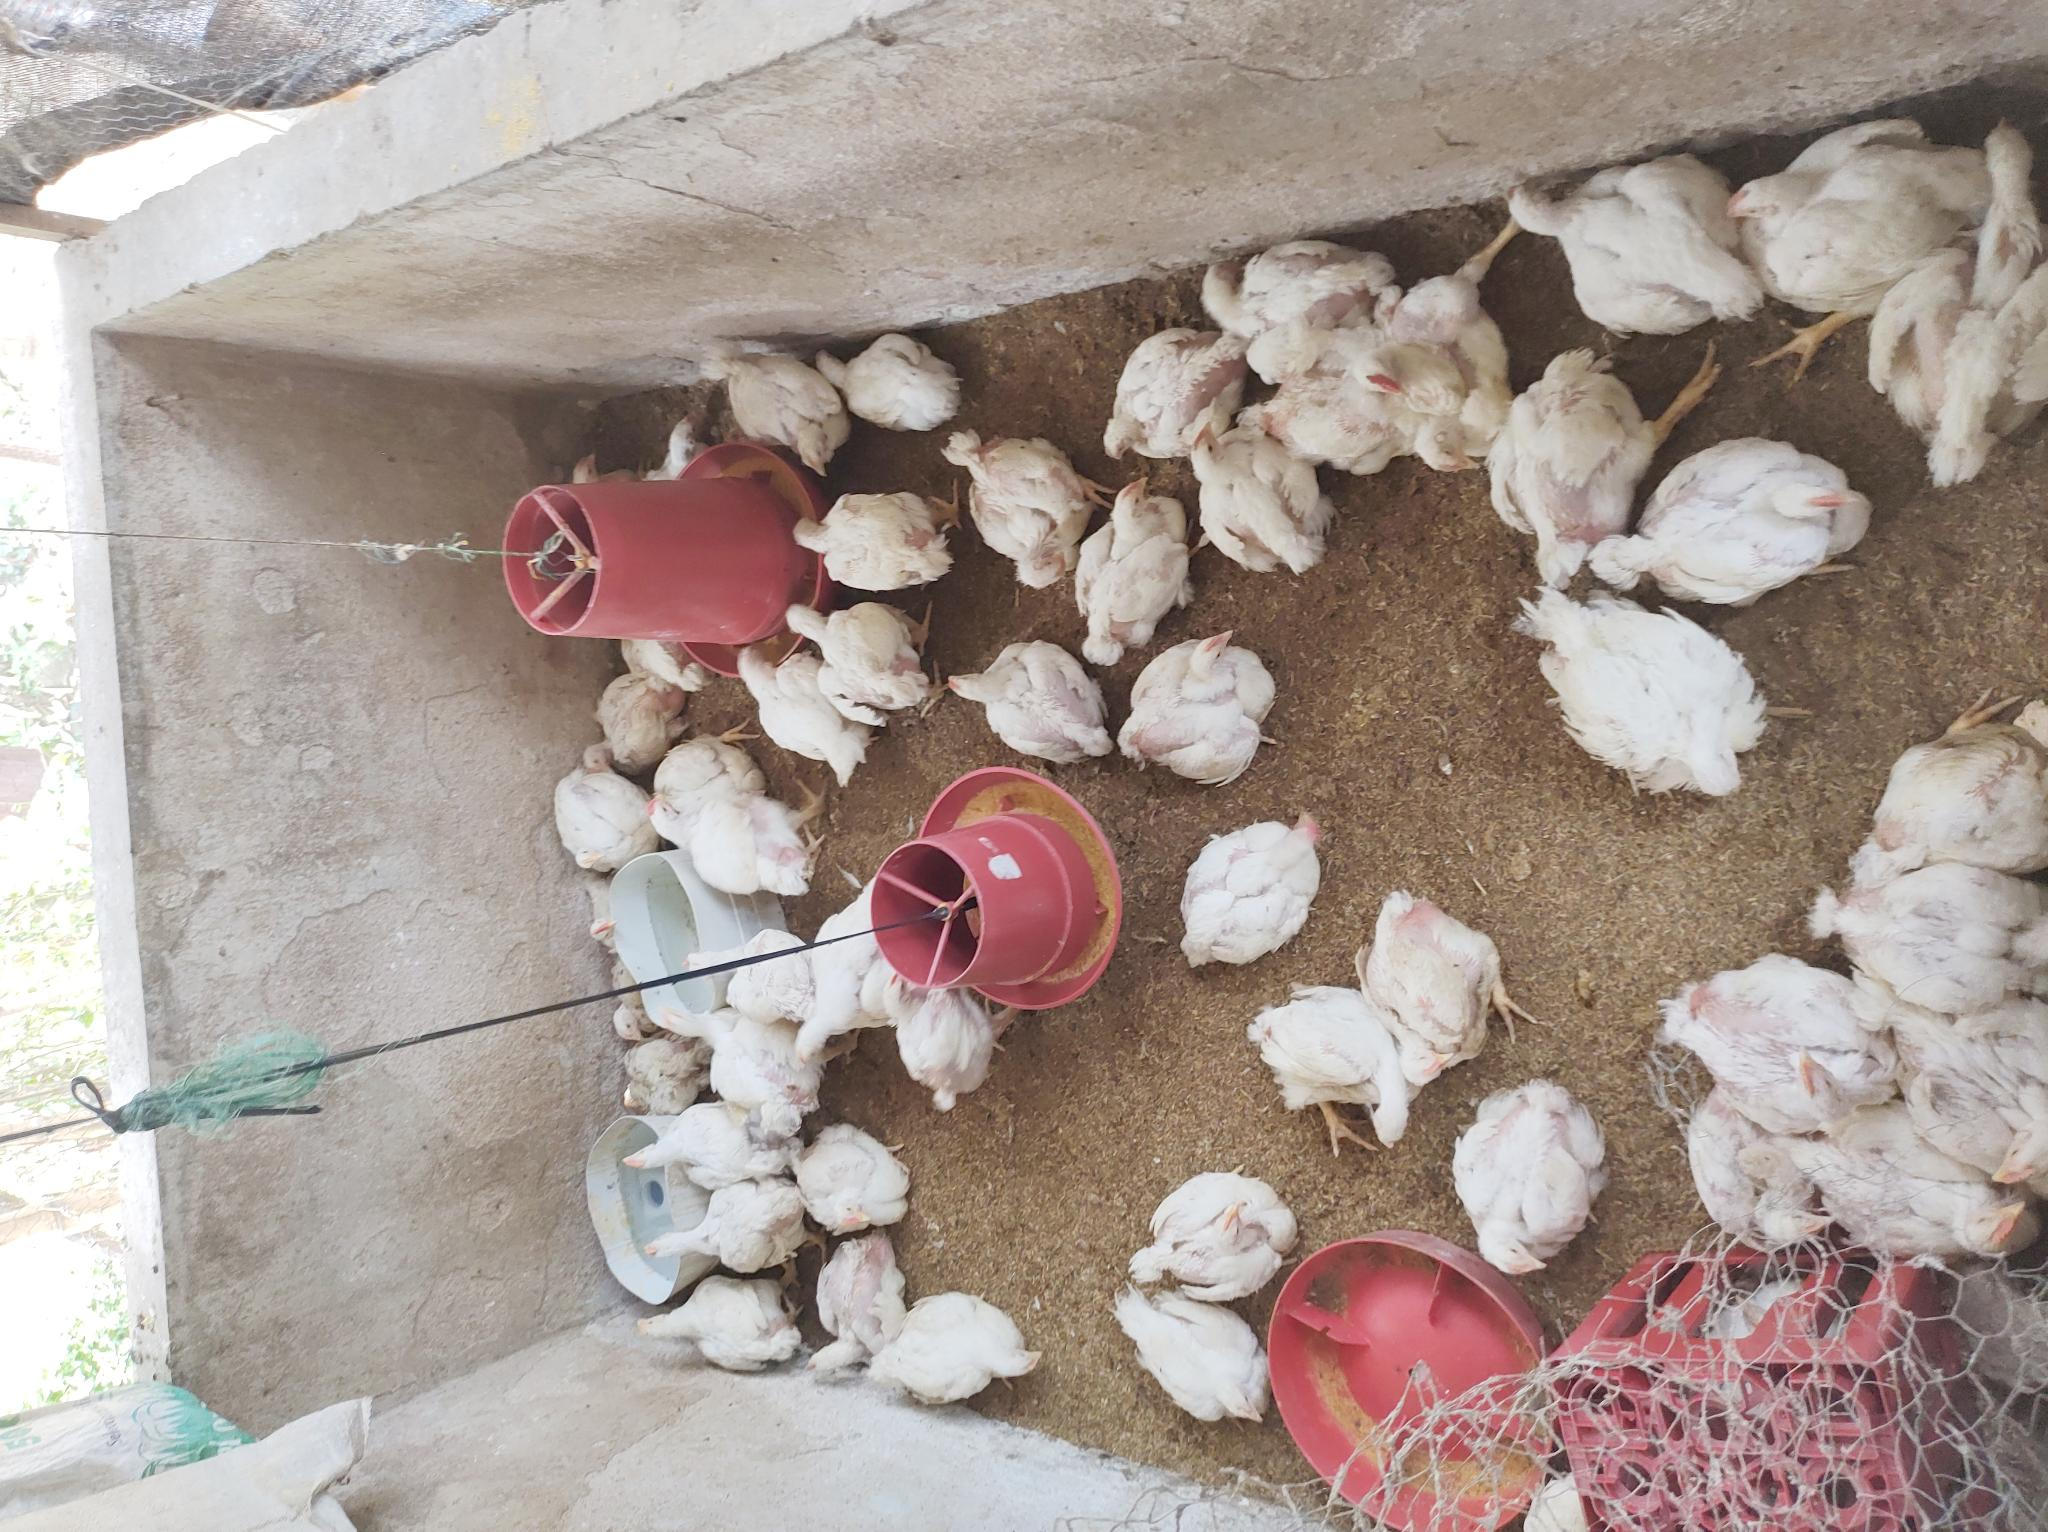Pollos: (1857, 111, 2046, 491), (1710, 108, 1997, 336), (1491, 146, 1746, 348), (1525, 589, 1758, 801), (1602, 433, 1871, 612), (1837, 966, 2048, 1188), (1783, 1083, 2040, 1262), (1665, 953, 1906, 1126), (1799, 858, 2048, 1012), (1487, 349, 1644, 587), (1853, 690, 2048, 877), (1454, 1077, 1612, 1283), (1252, 980, 1416, 1155), (1356, 887, 1498, 1085), (1676, 1072, 1836, 1247), (1174, 813, 1335, 975), (1121, 623, 1281, 787), (1126, 1168, 1313, 1303), (1189, 240, 1404, 356), (1108, 1287, 1281, 1431), (1174, 420, 1335, 573), (948, 430, 1091, 591), (1401, 280, 1515, 476), (721, 636, 874, 780), (944, 637, 1115, 766), (862, 1295, 1047, 1413), (1100, 322, 1245, 472), (1245, 348, 1411, 476), (1073, 472, 1187, 655), (790, 874, 893, 1067), (763, 595, 931, 711), (639, 795, 814, 904), (703, 349, 849, 476), (631, 1273, 806, 1374), (785, 491, 956, 591), (886, 964, 1001, 1110), (800, 1229, 904, 1389), (689, 1003, 814, 1126), (783, 1118, 907, 1238), (644, 1183, 804, 1271), (545, 742, 656, 869), (808, 343, 964, 431), (613, 1110, 785, 1184), (681, 932, 819, 1022), (586, 674, 693, 766), (655, 739, 779, 801), (621, 1033, 706, 1120), (611, 632, 709, 698), (594, 962, 668, 1040), (653, 412, 698, 476), (558, 452, 639, 483), (579, 906, 627, 945), (854, 756, 857, 758)
